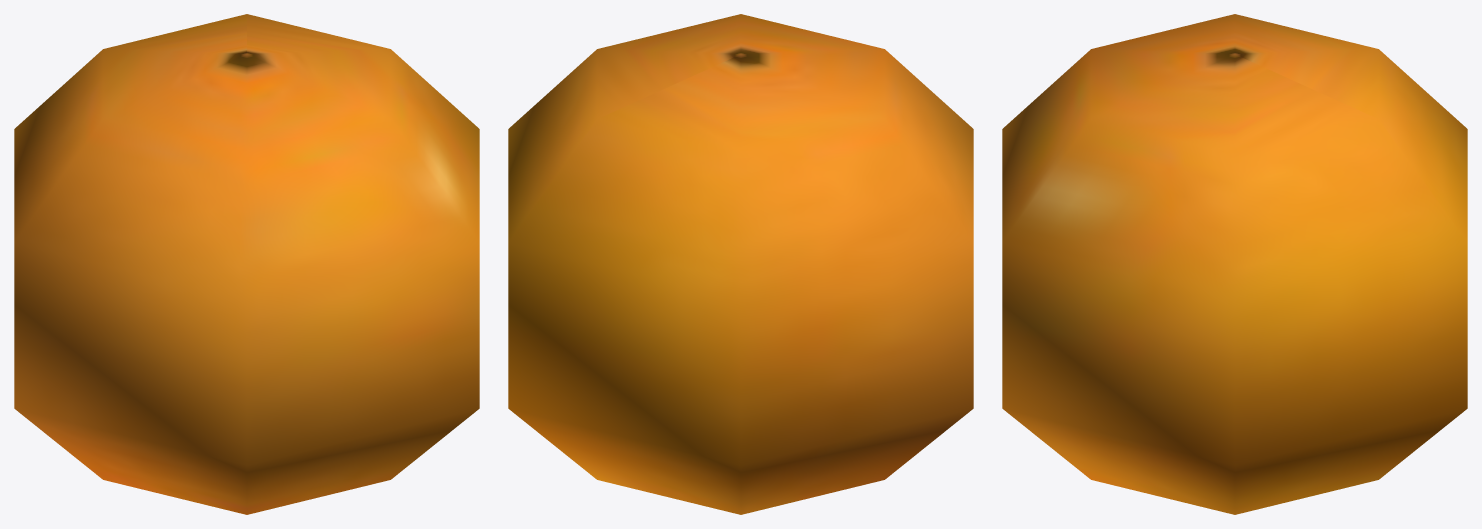
File: orange.glb
3 renders of one model, left to right at view 1: azimuth 30°, elevation 25°; view 2: azimuth 150°, elevation 25°; view 3: azimuth 270°, elevation 25°, orthographic.
Visible parts, largest first — view 1: orange; view 2: orange; view 3: orange.
Part boxes in pixels (<box>): orange: <box>14,14,479,514</box>; orange: <box>508,14,973,514</box>; orange: <box>1002,14,1467,514</box>.
Size of the model in its own units: 1.9 by 1.69 by 1.65.
1 material, 1 textured.
